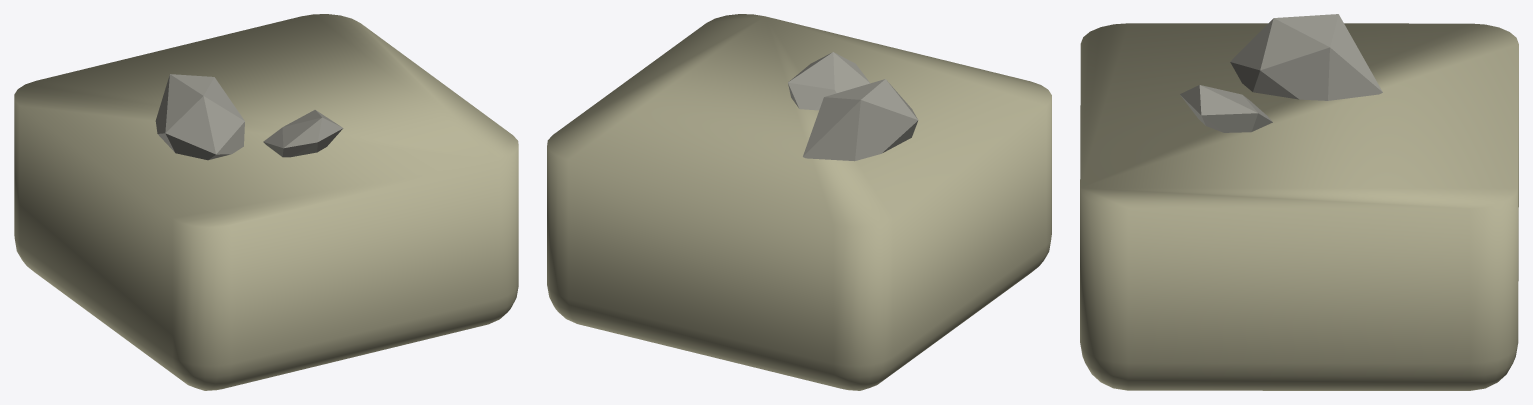
Rendered from pond2.fbx.
3 renders of one model, left to right at view 1: azimuth 30°, elevation 25°; view 2: azimuth 150°, elevation 25°; view 3: azimuth 270°, elevation 25°, orthographic. The views are drawn at different scales.
Parts seen in each view (by area): view 1: Cube.030; view 2: Cube.030; view 3: Cube.030.
Part boxes in pixels (bbox=[...]): Cube.030: bbox=[14, 14, 518, 390]; Cube.030: bbox=[547, 14, 1051, 390]; Cube.030: bbox=[1080, 14, 1518, 390].
Bounding box in the file's own units: 200 × 130 × 200.
